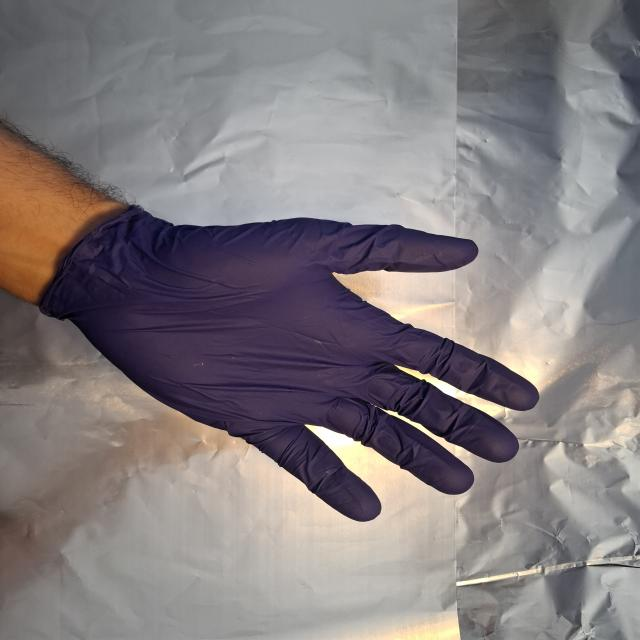glove_on: (35, 197, 543, 525)
